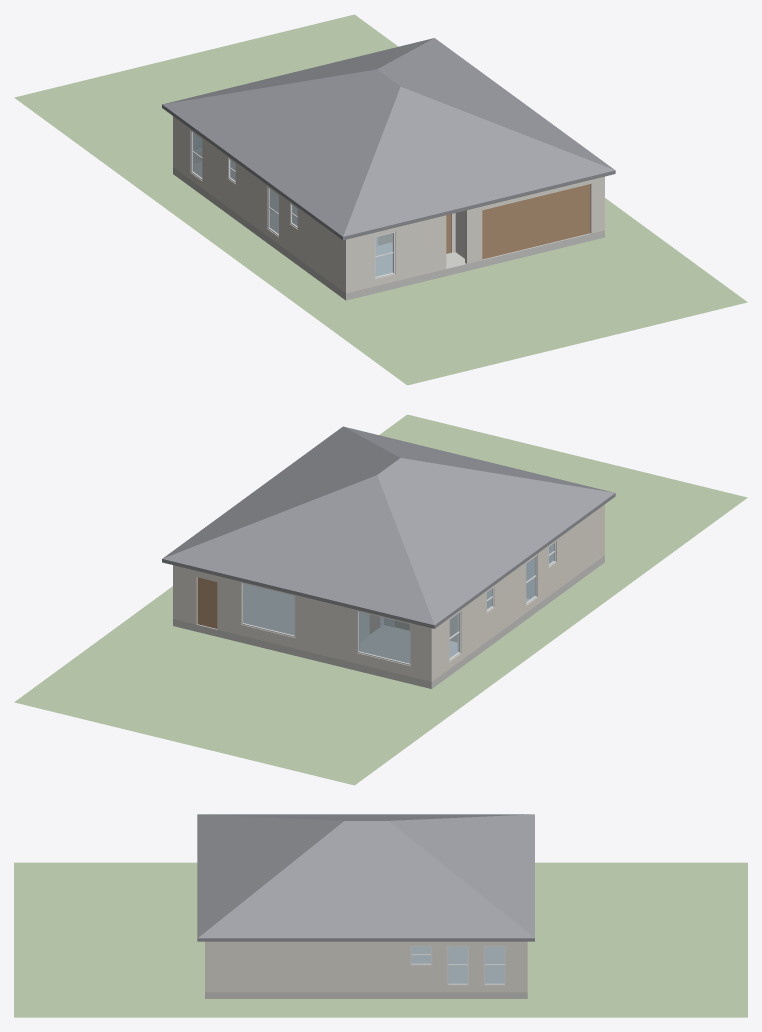
The picture shows the model from 3 angles, top to bottom: view 1: azimuth 30°, elevation 25°; view 2: azimuth 150°, elevation 25°; view 3: azimuth 270°, elevation 25°; orthographic projection. The views are drawn at different scales.
Parts seen in each view (by area): view 1: Lot, Hip roof, Wall ext-left, Wall ext-front, Door GD, Floor First Floor, Window N01; view 2: Lot, Hip roof, Wall ext-back, Wall ext-left, Floor First Floor, Window S01, Window S02, Door D13; view 3: Lot, Hip roof, Wall ext-right, Floor First Floor, Window N07, Window N08, Window N09.
Part boxes in pixels (x1,y1,x2,y2): Lot: (14, 14, 747, 385); Hip roof: (162, 38, 615, 240); Wall ext-left: (175, 117, 343, 291); Wall ext-front: (344, 176, 604, 293); Door GD: (482, 184, 590, 259); Floor First Floor: (173, 162, 604, 300); Window N01: (375, 233, 393, 276); Lot: (14, 414, 747, 785); Hip roof: (162, 426, 615, 628); Wall ext-back: (173, 565, 433, 681); Wall ext-left: (433, 506, 602, 680); Floor First Floor: (173, 555, 604, 688); Window S01: (359, 612, 410, 663); Window S02: (243, 583, 294, 635); Door D13: (197, 577, 217, 628); Lot: (14, 862, 747, 1017); Hip roof: (197, 814, 534, 941); Wall ext-right: (208, 941, 523, 992); Floor First Floor: (205, 947, 527, 998); Window N07: (448, 946, 467, 983); Window N08: (485, 946, 504, 983); Window N09: (411, 946, 430, 963).
Size of the model in its own units: 15.24 by 5.46 by 30.48.
